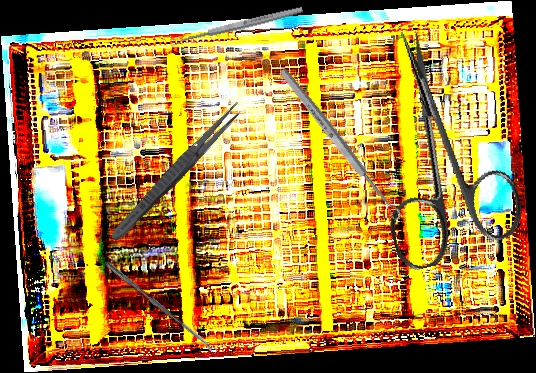Dressing Forceps: (106, 97, 247, 246)
Iris Scissors: (341, 13, 531, 275)
Surgical Spoon: (276, 65, 404, 223), (103, 260, 219, 356), (169, 5, 304, 47)
